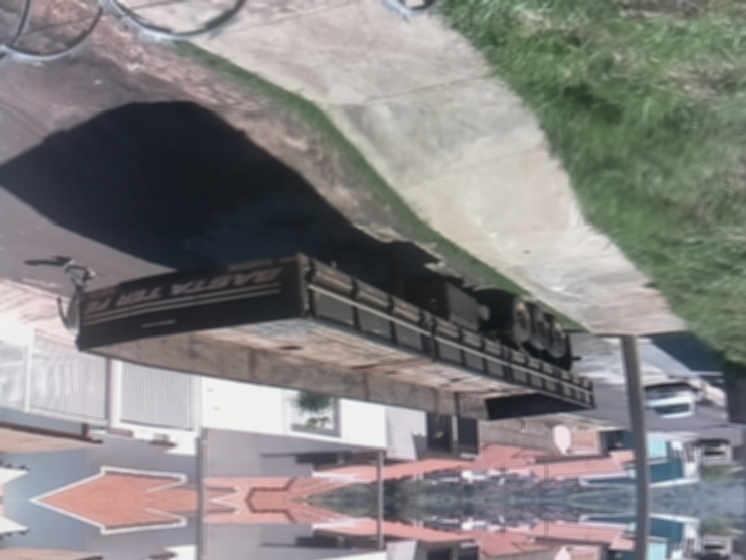person: (56, 257, 96, 349)
